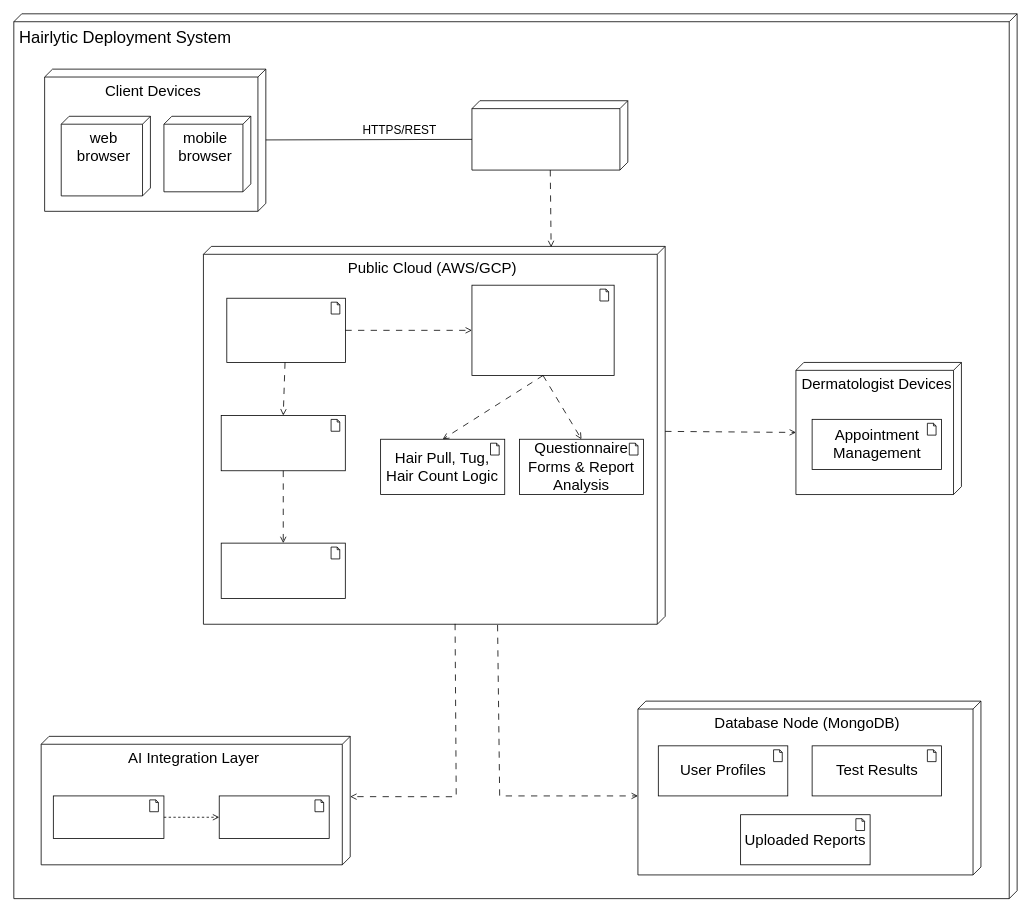
This 1031x912 diagram has some shape labels left out. Here are the shapes that lost their labels. From the top down, the centre of each, then its label:
[549,135]: API Gateway / Load Balancer
[285,329]: Login & Token Management
[542,329]: Alopecia Detection TensorFlow / PyTorch AI Models
[282,443]: Notifications & Reports
[282,570]: Dermatologist Recommendations
[108,817]: Image Preprocessing
[273,817]: Pre-trained Models
